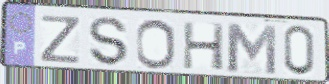0: (281, 24, 317, 79)
H: (181, 20, 227, 72)
M: (224, 21, 279, 76)
O: (135, 18, 178, 71)
S: (87, 16, 130, 68)
Z: (39, 13, 83, 65)
